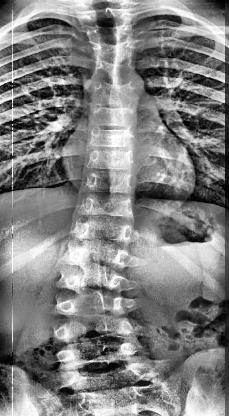Vertebrae: (56, 362, 158, 394), (57, 338, 142, 368), (54, 314, 138, 344), (66, 218, 140, 250), (62, 240, 136, 272), (62, 266, 130, 298), (56, 292, 130, 320), (72, 194, 140, 221), (90, 76, 146, 106), (80, 172, 138, 196), (92, 56, 142, 82), (88, 103, 138, 129), (87, 126, 137, 152), (89, 37, 143, 61), (84, 149, 138, 173), (76, 6, 138, 26), (83, 23, 143, 42)
